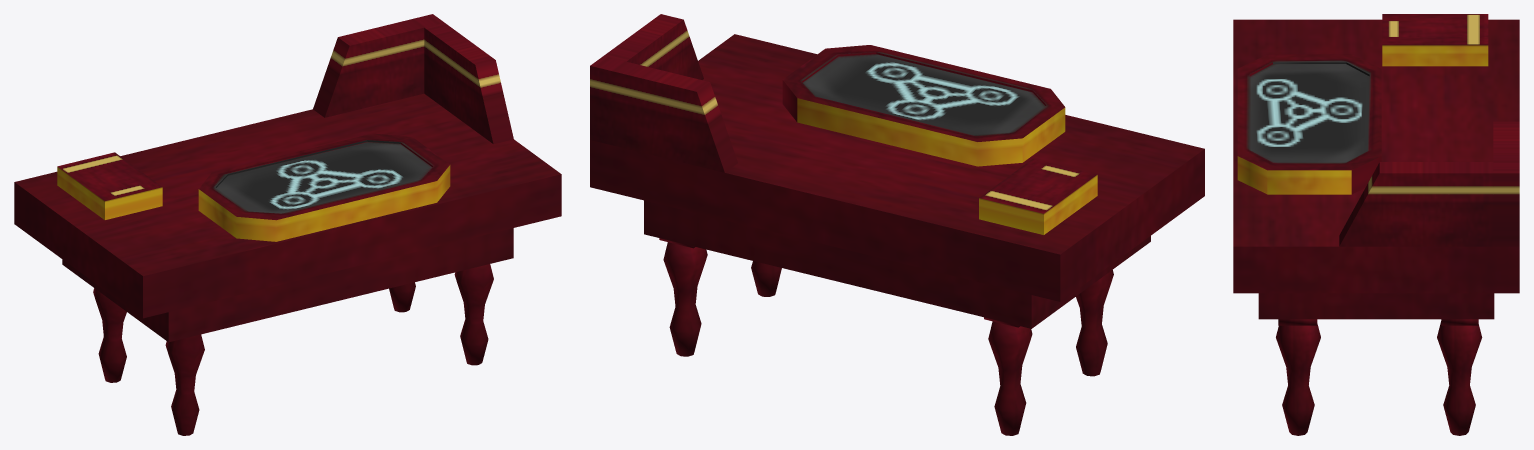
The model's file is object market2.FBX.
3 views of the same model, side by side, from view 1: azimuth 30°, elevation 25°; view 2: azimuth 150°, elevation 25°; view 3: azimuth 270°, elevation 25° (orthographic). The views are drawn at different scales.
Parts seen in each view (by area): view 1: object market 2; view 2: object market 2; view 3: object market 2.
Boxes of the visible parts, bbox=[...] form: object market 2: bbox=[14, 14, 561, 435]; object market 2: bbox=[590, 14, 1204, 435]; object market 2: bbox=[1233, 14, 1519, 435].
Bounding box in the file's own units: 242 × 144 × 129.
